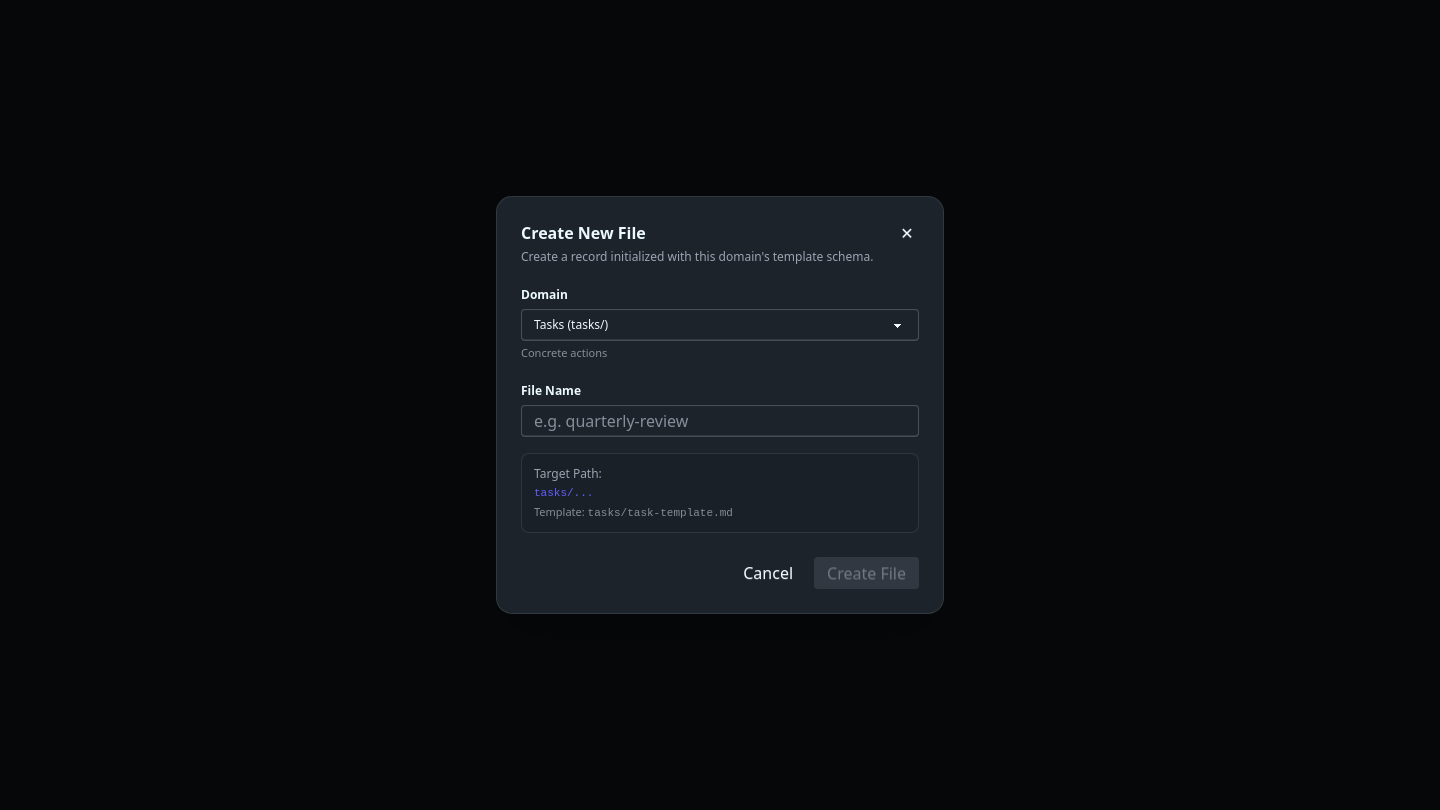
it: CreateFileDialog › validates against empty names, path separators, template names, and existing paths
Path slash error
Type "sub/task" into the field labelled "File Name" at (720, 421), box [521,405,919,437]
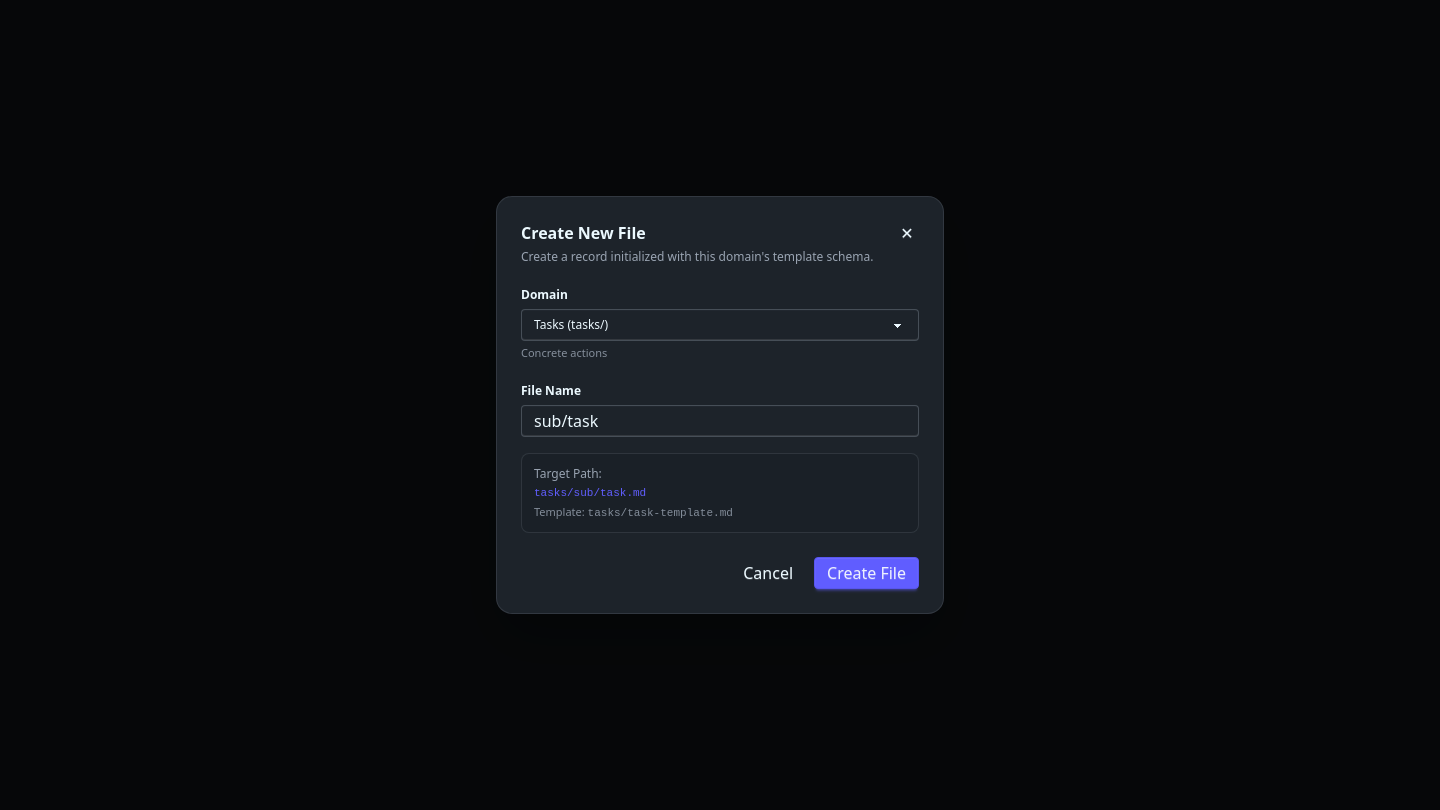
Click the button "Create File" at (866, 573), box [814,557,919,589]
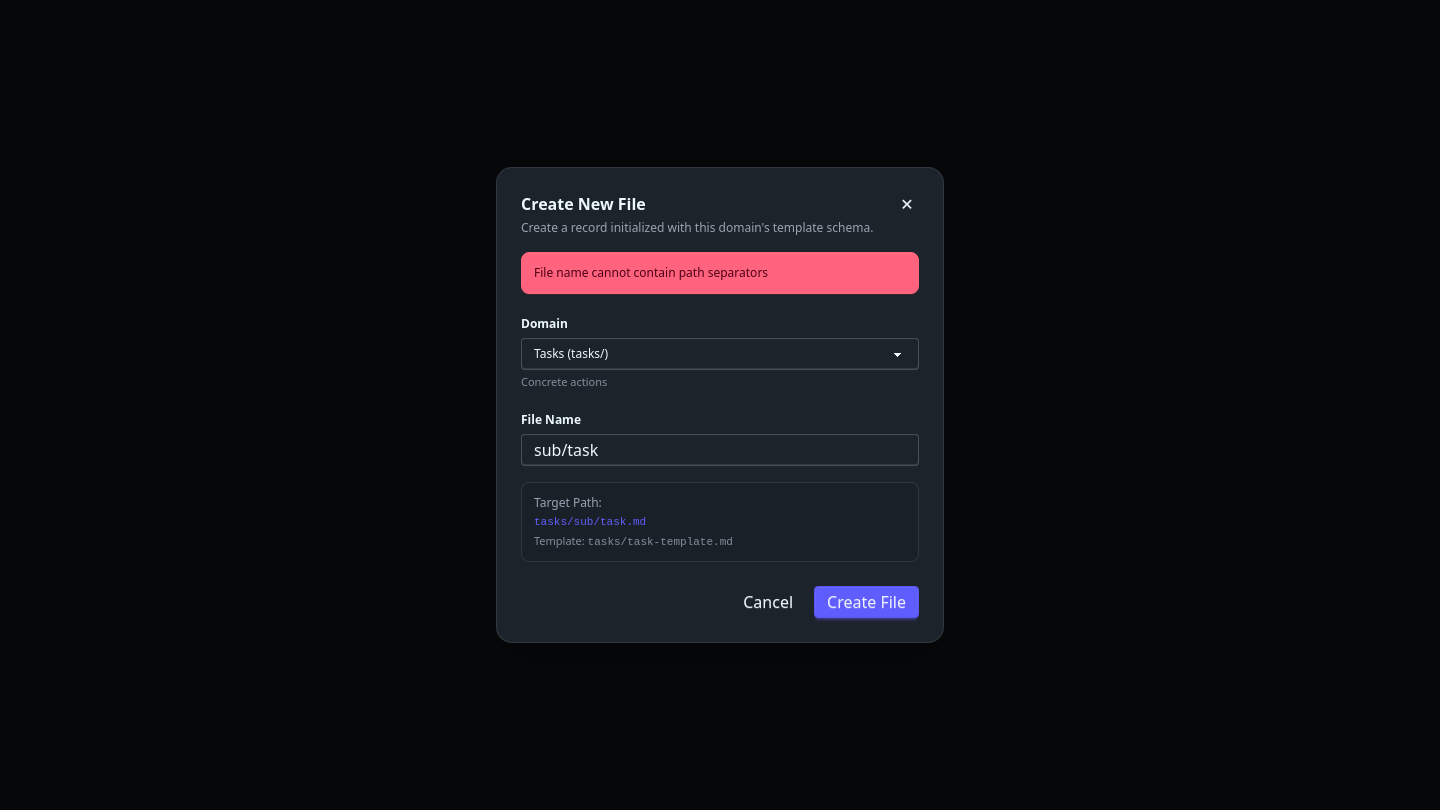
Expected: the text "File name cannot contain path separators" is shown, [534,265,768,281]
Template protection
Replace the text in the field labelled "File Name" with "my-template.md" at (720, 450), box [521,434,919,466]
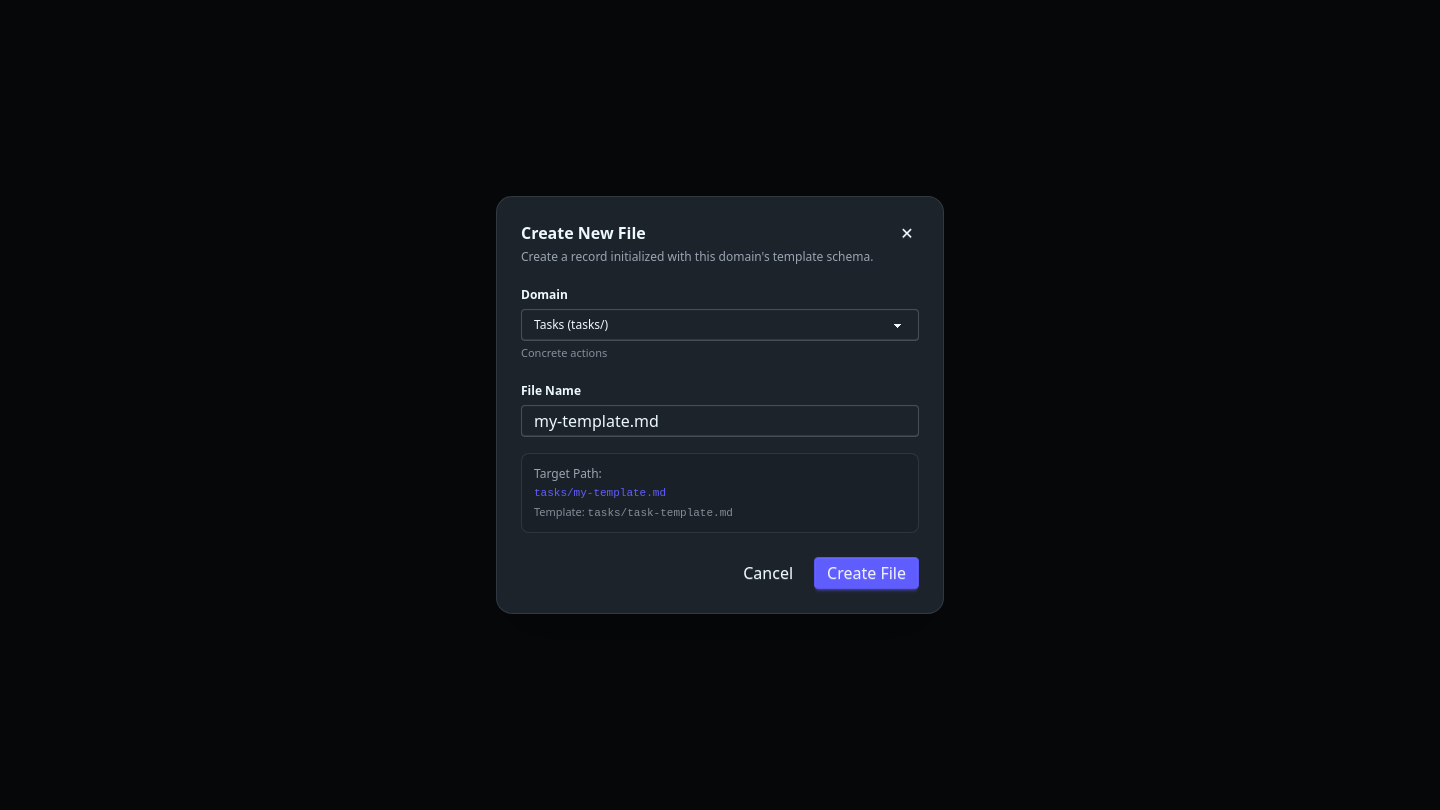
Click the button "Create File" at (866, 573), box [814,557,919,589]
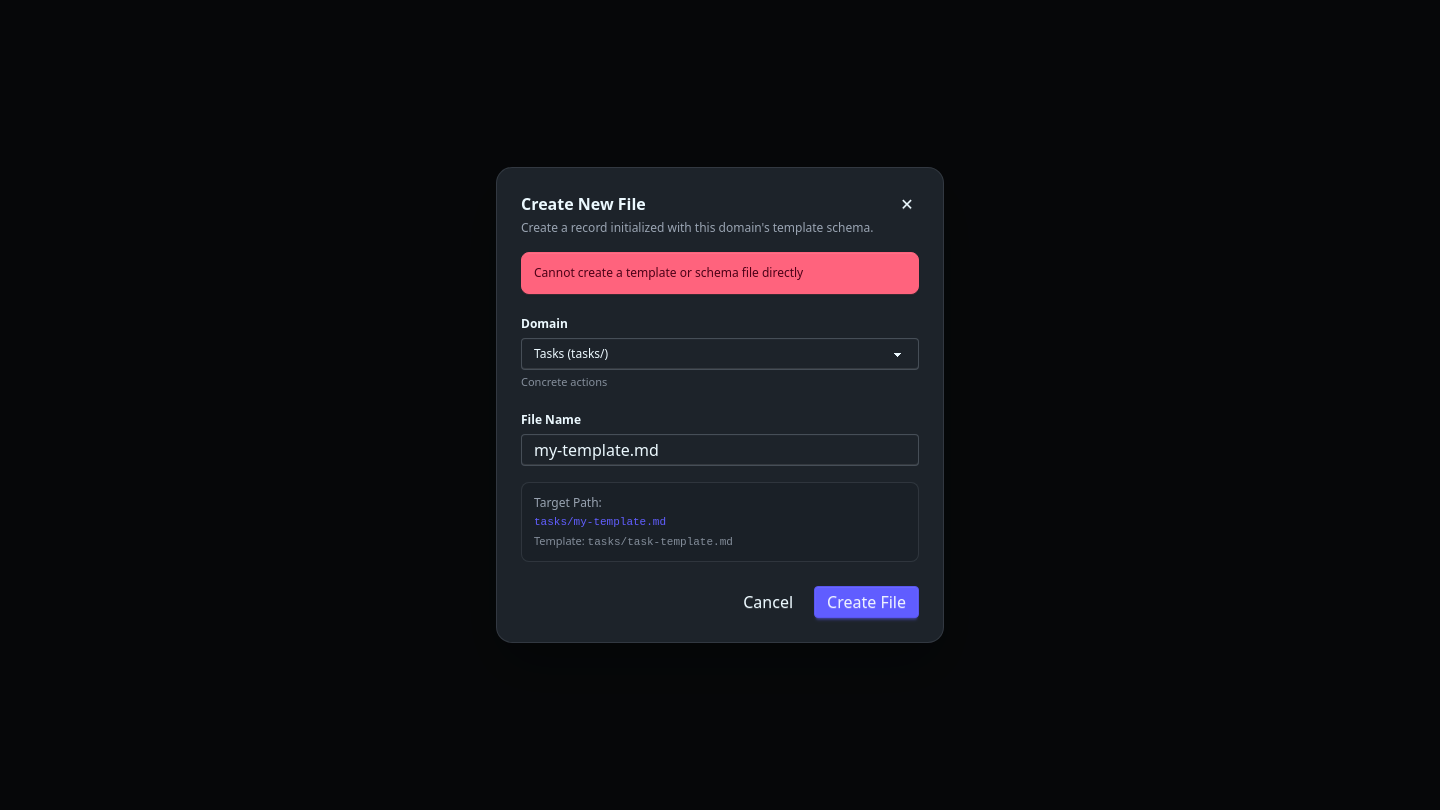
Expected: the text "Cannot create a template or schema file directly" is shown, [534,265,803,281]
Existing file error
Replace the text in the field labelled "File Name" with "existing" at (720, 450), box [521,434,919,466]
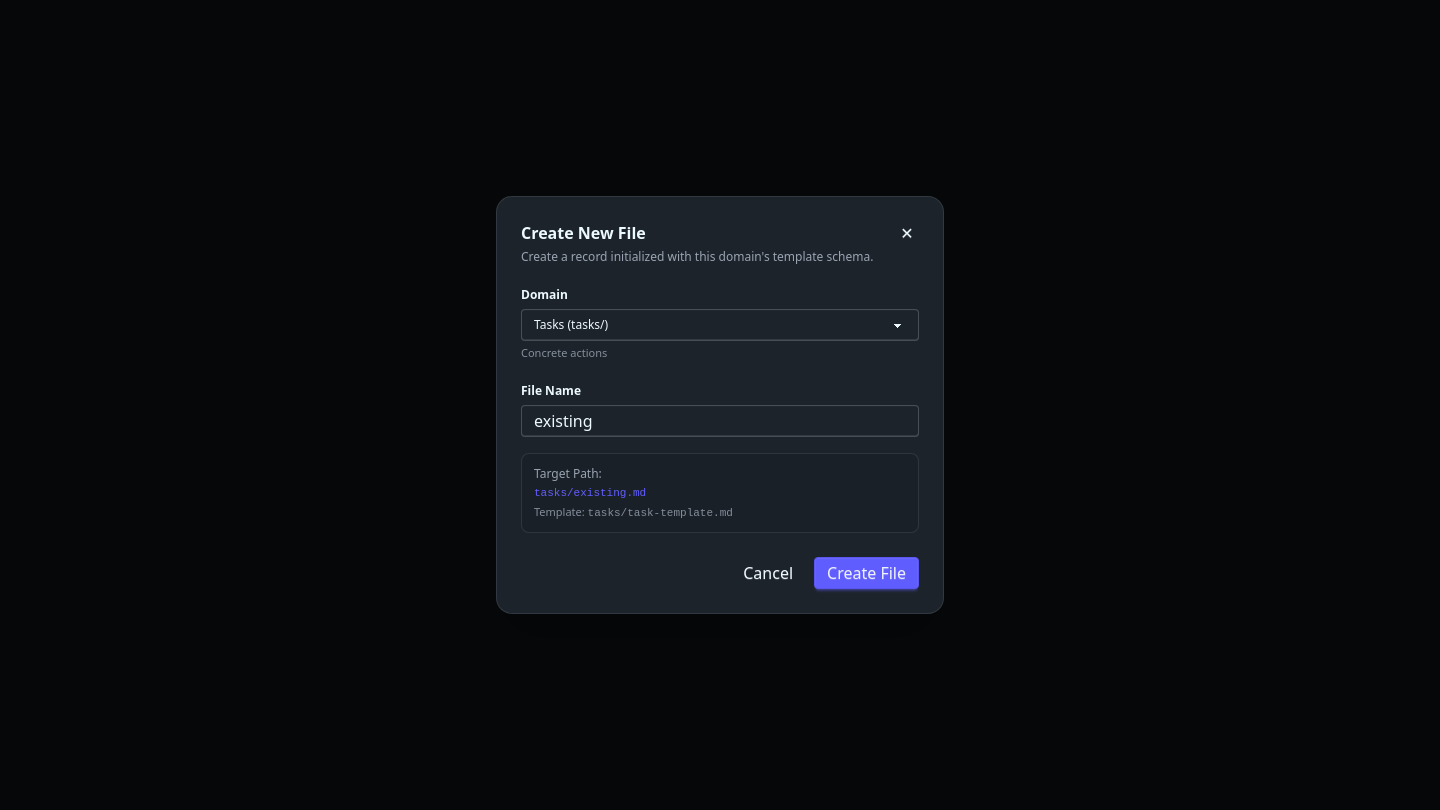
Click the button "Create File" at (866, 573), box [814,557,919,589]
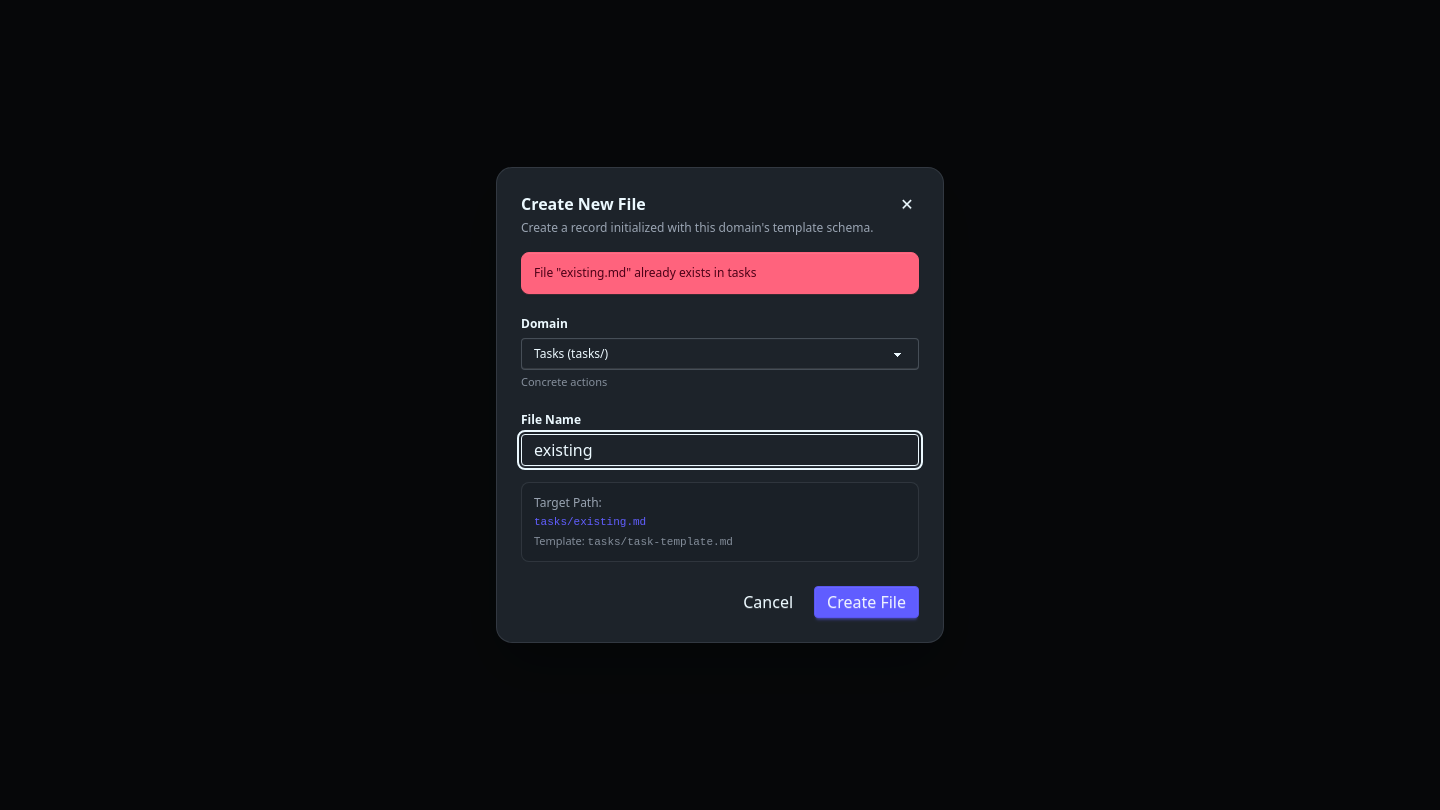
Expected: the text "File \"existing.md\" already exists in tasks" is shown, [534,265,756,281]
